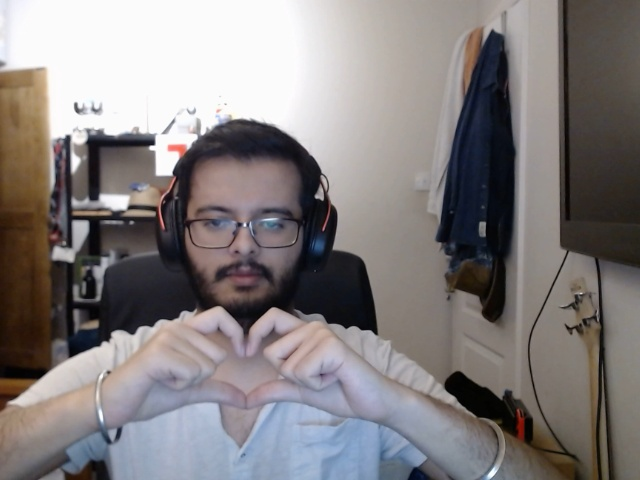Heart: (99, 304, 412, 433)
